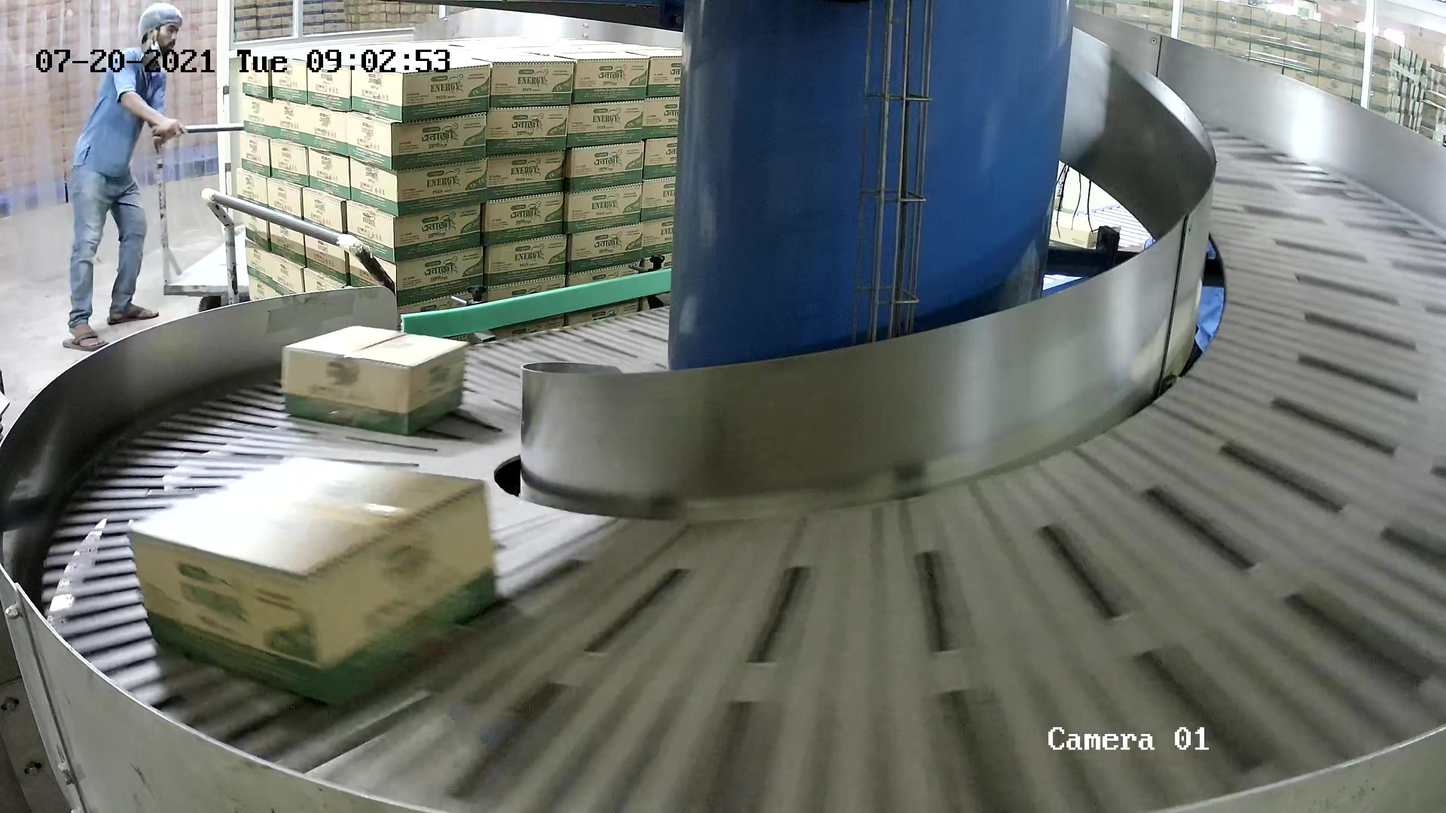Box: (127, 455, 499, 710), (280, 325, 469, 437)
